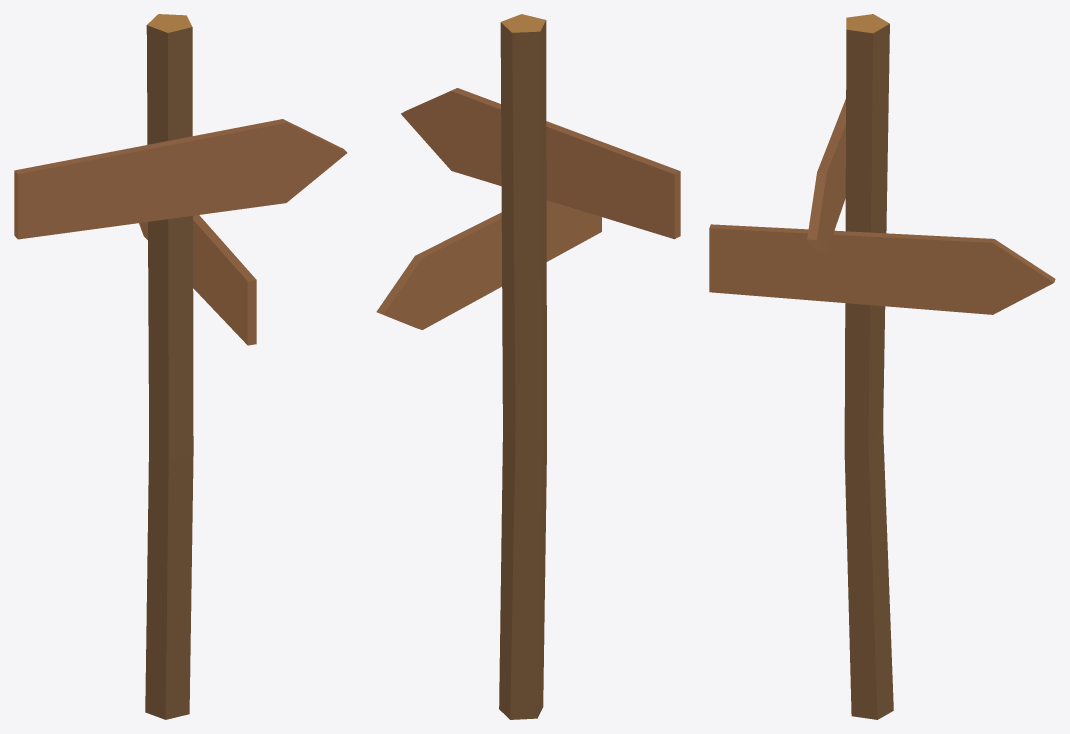
The model's file is guidepost.glb.
3 renders of one model, left to right at view 1: azimuth 30°, elevation 25°; view 2: azimuth 150°, elevation 25°; view 3: azimuth 270°, elevation 25°, orthographic.
Parts seen in each view (by area): view 1: guidepost; view 2: guidepost; view 3: guidepost.
Part boxes in pixels (x1=…): guidepost: x1=14, y1=14, x2=347, y2=719; guidepost: x1=376, y1=14, x2=680, y2=719; guidepost: x1=709, y1=14, x2=1055, y2=719.
Bounding box in the file's own units: 1.25 × 2.71 × 1.24.
Materials: 1 (1 with a texture image).
